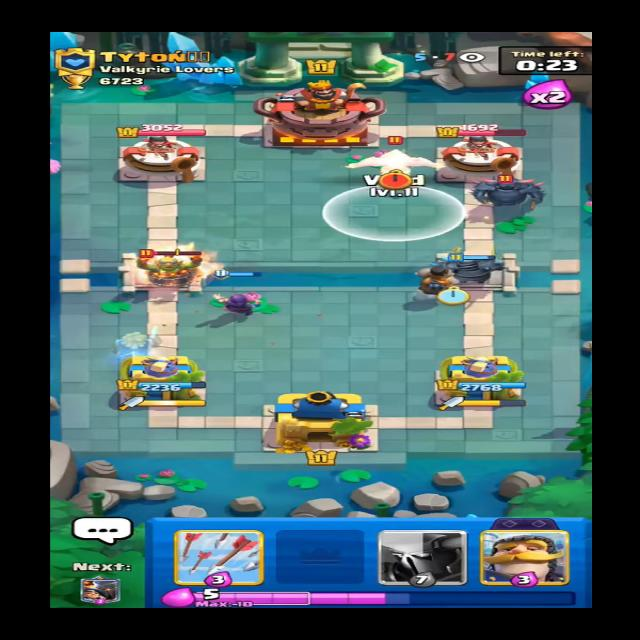goblin-demolisher: (126, 243, 220, 286)
pekka: (469, 171, 552, 208)
phoenix: (342, 136, 451, 178)
